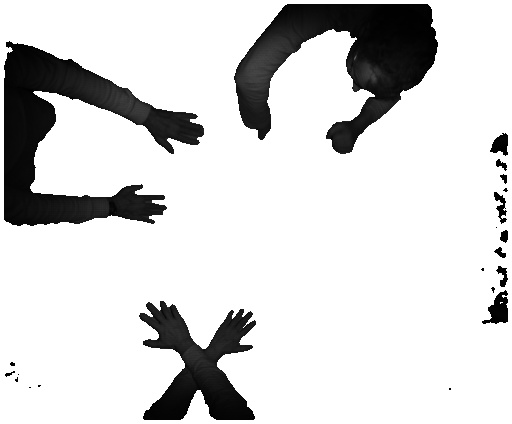fist: (320, 121, 359, 159)
hand: (136, 296, 192, 352), (150, 107, 207, 159), (211, 304, 255, 359), (117, 184, 167, 223)
